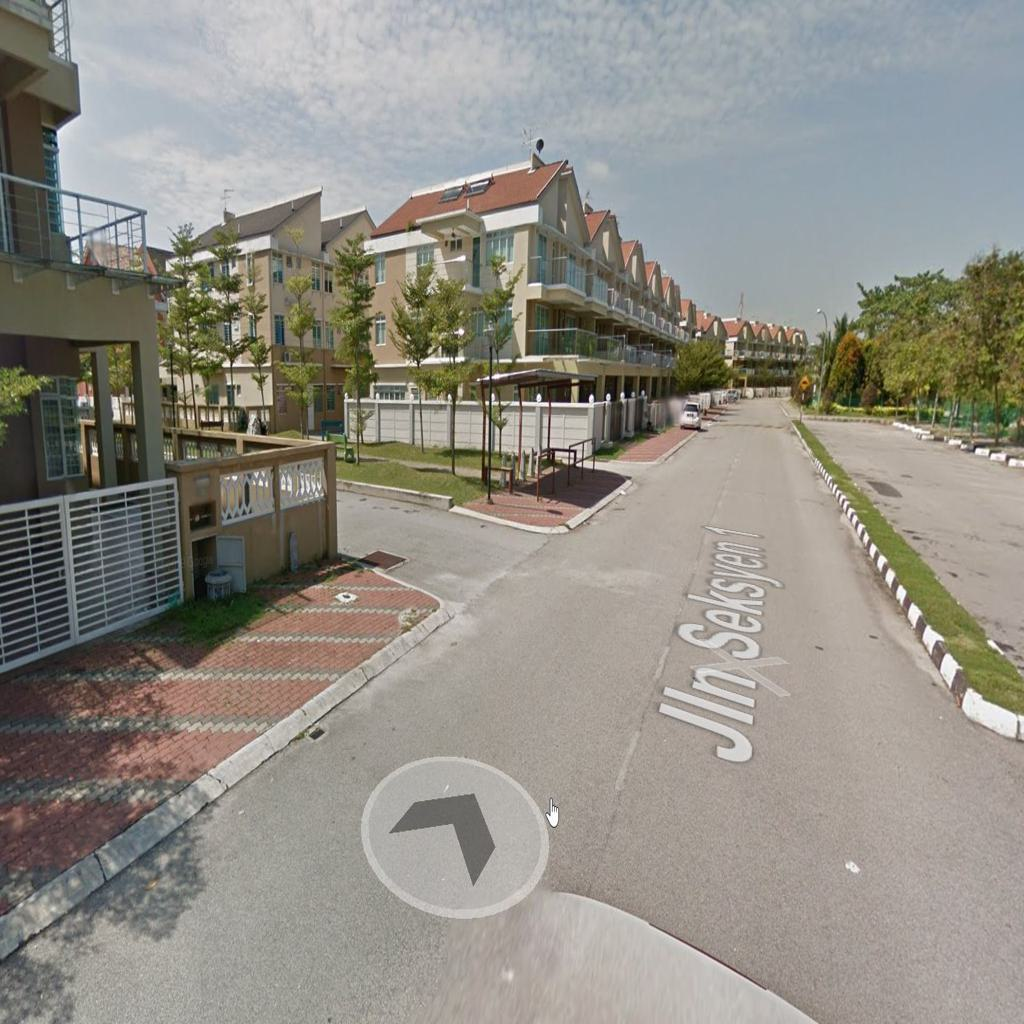Junction: (342, 457, 588, 656)
